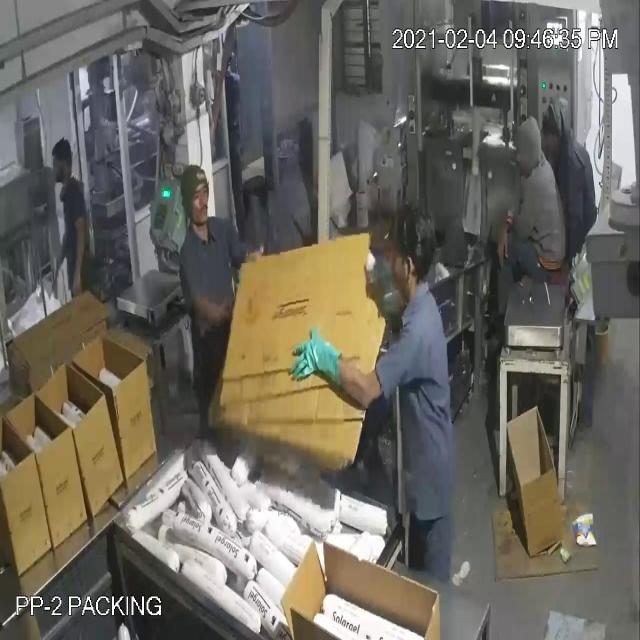gloves: (287, 318, 381, 418)
no-gloves: (187, 264, 239, 329), (74, 204, 94, 306)
